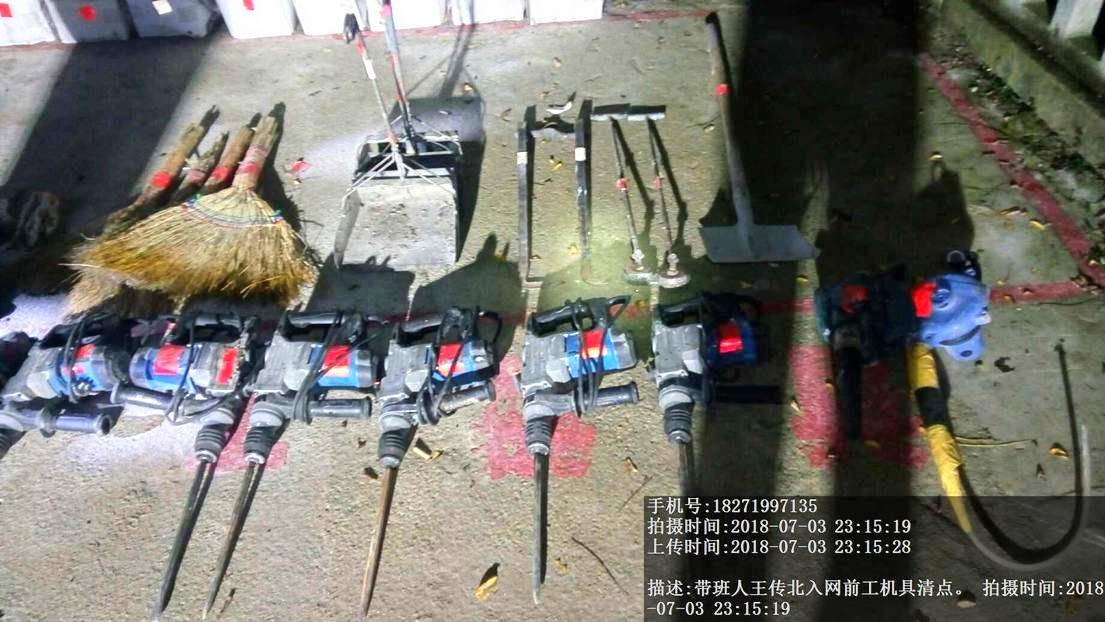DZ: (520, 303, 645, 608), (229, 317, 376, 546), (377, 311, 493, 563), (140, 322, 246, 559), (650, 302, 768, 498)
GFJ: (886, 254, 990, 491)
SB: (70, 116, 300, 295)
TQ: (703, 20, 809, 272)
